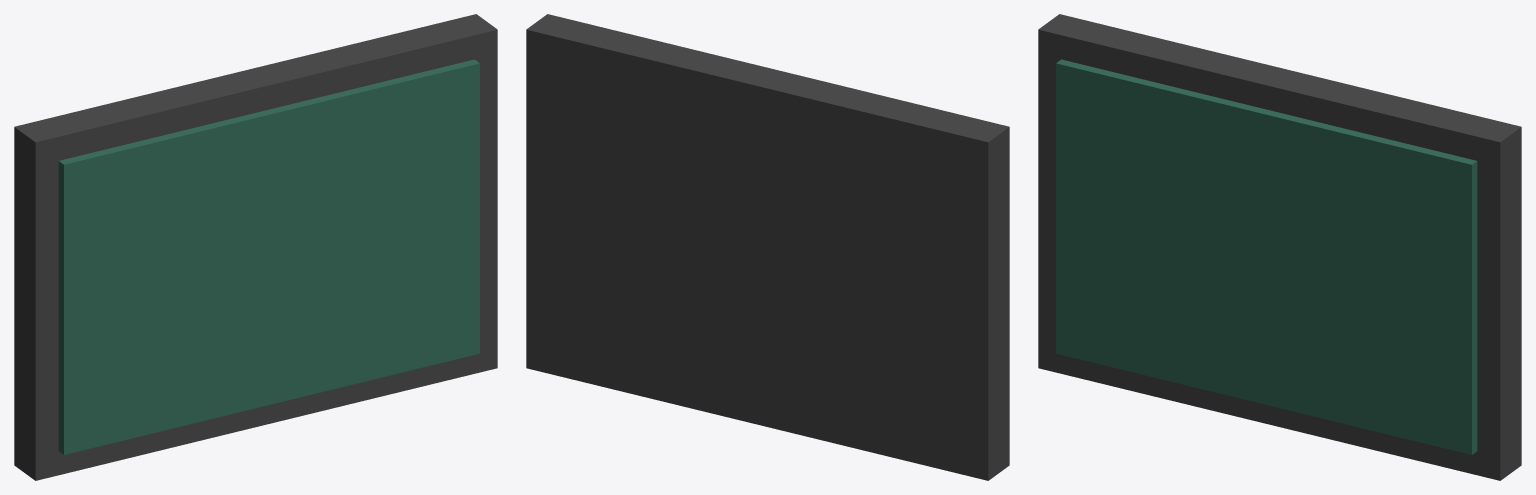
File: accessory-seconddisplay.glb
3 renders of one model, left to right at view 1: azimuth 30°, elevation 25°; view 2: azimuth 150°, elevation 25°; view 3: azimuth 330°, elevation 25°, orthographic.
Visible parts, largest first — view 1: geometry_1, geometry_0; view 2: geometry_0; view 3: geometry_1, geometry_0.
Part boxes in pixels (x1=…): geometry_1: x1=58, y1=59, x2=479, y2=454; geometry_0: x1=14, y1=14, x2=497, y2=480; geometry_0: x1=526, y1=14, x2=1009, y2=480; geometry_1: x1=1056, y1=59, x2=1477, y2=454; geometry_0: x1=1038, y1=14, x2=1521, y2=480.
Size of the model in its own units: 0.1 by 0.07 by 0.01.
